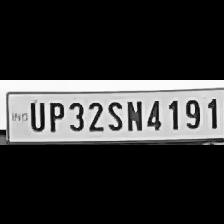1: (202, 94, 222, 130), (163, 96, 181, 132)
2: (84, 98, 104, 132)
3: (65, 98, 85, 132)
4: (143, 96, 163, 132)
9: (180, 94, 202, 130)
N: (124, 96, 144, 132)
P: (45, 99, 65, 134)
S: (104, 98, 124, 132)
U: (23, 98, 44, 132)
